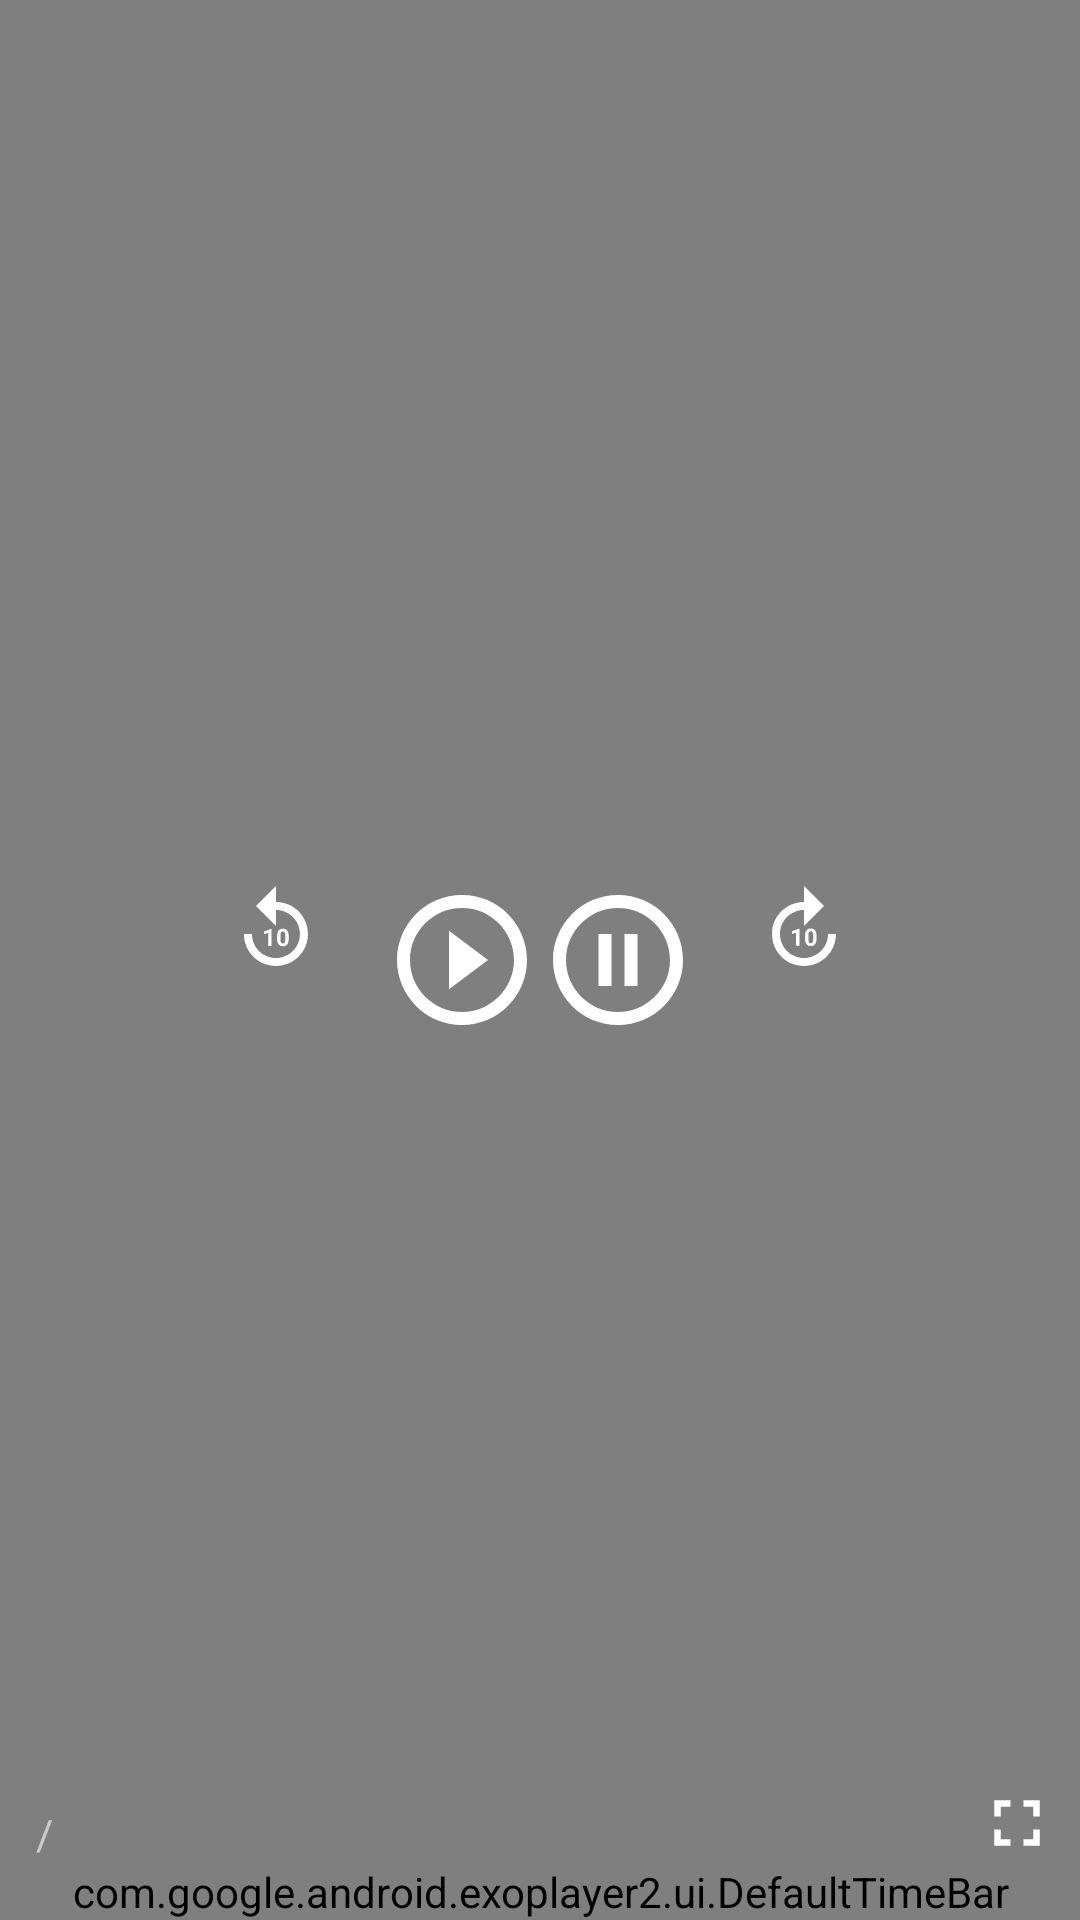

Named icons in this screenshot (1080 x 1920) and their bounding boxes, Rect(x1, y1, x2, y2):
fullscreen: Rect(994, 1800, 1040, 1846)
pause: Rect(553, 895, 683, 1025)
play: Rect(397, 895, 527, 1025)
rew: Rect(244, 886, 308, 966)
